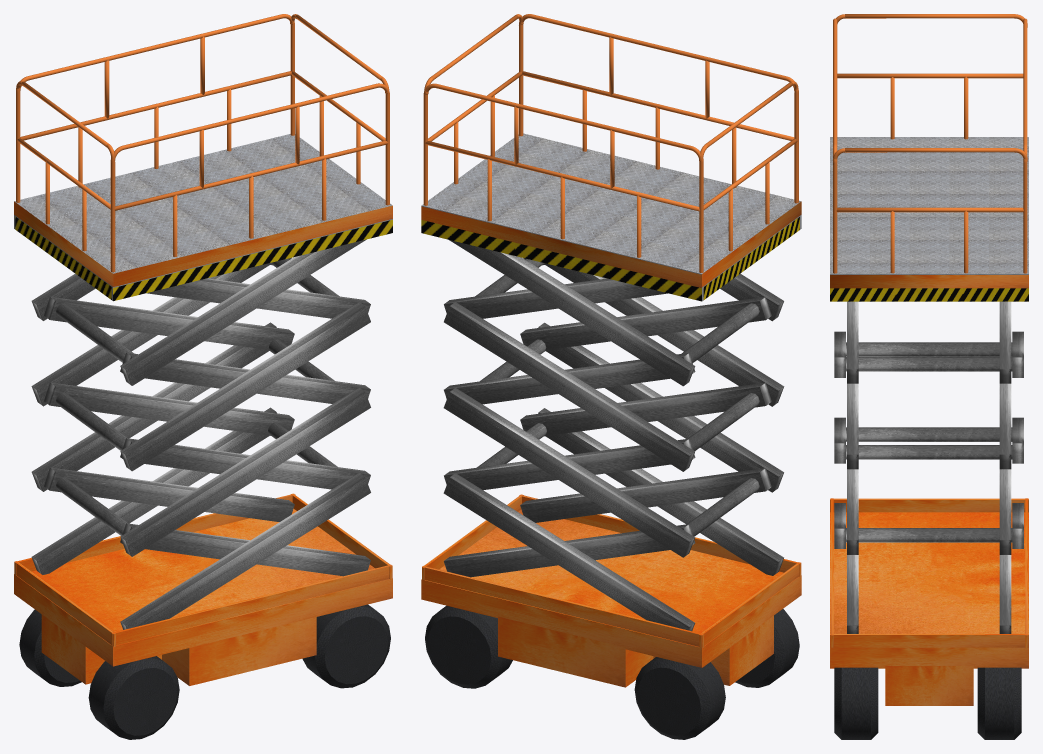
Rendered from ElevatingPlatform2.FBX.
3 renders of one model, left to right at view 1: azimuth 30°, elevation 25°; view 2: azimuth 150°, elevation 25°; view 3: azimuth 270°, elevation 25°, orthographic.
Parts seen in each view (by area): view 1: TopBlock, Bottom, Box021, Box017, Box009, Box025, ChamferCyl001, ChamferCyl002, Box015, Box019, Box023, Box016 (+12 smaller); view 2: TopBlock, Bottom, Box018, Box022, Box014, Box026, ChamferCyl004, ChamferCyl003, Box016, Box020, Box024, Box015 (+12 smaller); view 3: TopBlock, Bottom, ChamferCyl002, ChamferCyl003, Cylinder001, Cylinder002, Cylinder003, Cylinder005, Cylinder006, Box023, Box019, Box027 (+11 smaller).
Part boxes in pixels (bbox=[...]): TopBlock: bbox=[14, 14, 392, 301]; Bottom: bbox=[14, 493, 392, 685]; Box021: bbox=[120, 302, 370, 471]; Box017: bbox=[120, 387, 370, 556]; Box009: bbox=[120, 472, 370, 629]; Box025: bbox=[120, 239, 366, 385]; ChamferCyl001: bbox=[88, 656, 179, 739]; ChamferCyl002: bbox=[302, 604, 390, 688]; Box015: bbox=[44, 467, 294, 521]; Box019: bbox=[44, 382, 294, 435]; Box023: bbox=[44, 296, 294, 349]; Box016: bbox=[120, 523, 370, 576]; TopBlock: bbox=[421, 14, 801, 301]; Bottom: bbox=[421, 494, 801, 687]; Box018: bbox=[443, 387, 695, 557]; Box022: bbox=[444, 302, 694, 471]; Box014: bbox=[443, 473, 694, 631]; Box026: bbox=[449, 240, 695, 386]; ChamferCyl004: bbox=[634, 657, 725, 739]; ChamferCyl003: bbox=[425, 605, 512, 688]; Box016: bbox=[520, 468, 771, 522]; Box020: bbox=[520, 382, 771, 436]; Box024: bbox=[520, 297, 771, 350]; Box015: bbox=[444, 524, 695, 577]; TopBlock: bbox=[830, 14, 1028, 301]; Bottom: bbox=[830, 498, 1028, 705]; ChamferCyl002: bbox=[834, 667, 878, 739]; ChamferCyl003: bbox=[977, 667, 1021, 739]; Cylinder001: bbox=[846, 528, 1012, 542]; Cylinder002: bbox=[846, 427, 1012, 441]; Cylinder003: bbox=[846, 342, 1012, 356]; Cylinder005: bbox=[846, 357, 1012, 371]; Cylinder006: bbox=[846, 445, 1012, 459]; Box023: bbox=[999, 383, 1011, 469]; Box019: bbox=[999, 469, 1011, 554]; Box027: bbox=[999, 301, 1011, 383].
Bounding box in the file's own units: 89.05 × 178 × 53.15.
Materials: 5 (5 with a texture image).
